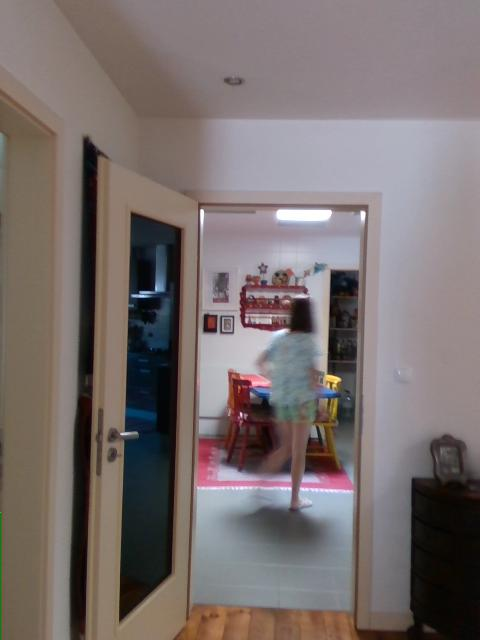door: (87, 154, 198, 640)
